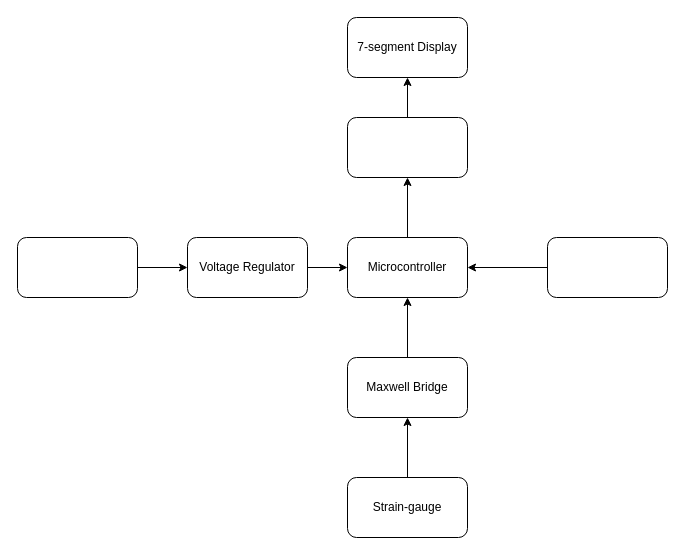
Image size: 685x555. Some labels were removed from this diagram. Each missing label, with the centre of its shape:
"CR2032 Battery" belongs at point (77, 267).
"Drain-side Transistors" belongs at point (407, 147).
"Temperature sensor" belongs at point (607, 267).
